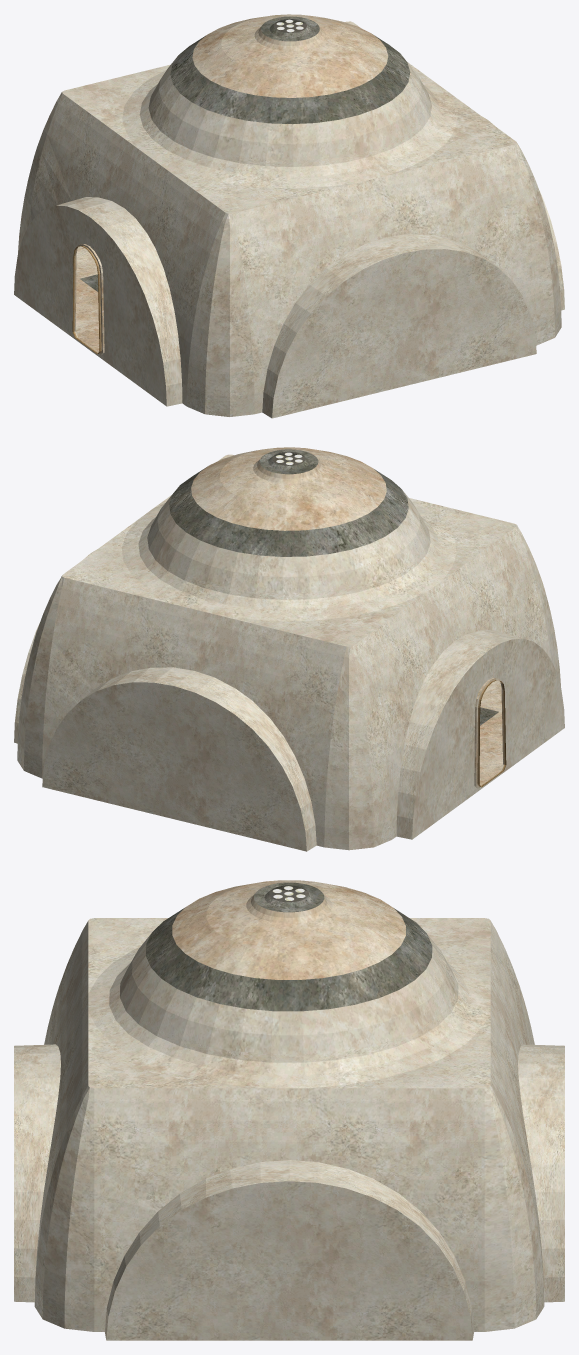
Rendered from ply_tato_house_lg_s01_fp1_r8_bedroom_mesh_r8.fbx.
3 renders of one model, top to bottom at view 1: azimuth 30°, elevation 25°; view 2: azimuth 150°, elevation 25°; view 3: azimuth 270°, elevation 25°, orthographic. The views are drawn at different scales.
Visible parts, largest first — view 1: mesh_node; view 2: mesh_node; view 3: mesh_node.
Part boxes in pixels (x1=…): mesh_node: x1=14, y1=14, x2=564, y2=418; mesh_node: x1=14, y1=447, x2=564, y2=851; mesh_node: x1=14, y1=880, x2=564, y2=1340.
Size of the model in its own units: 12.12 by 7.95 by 11.99.
